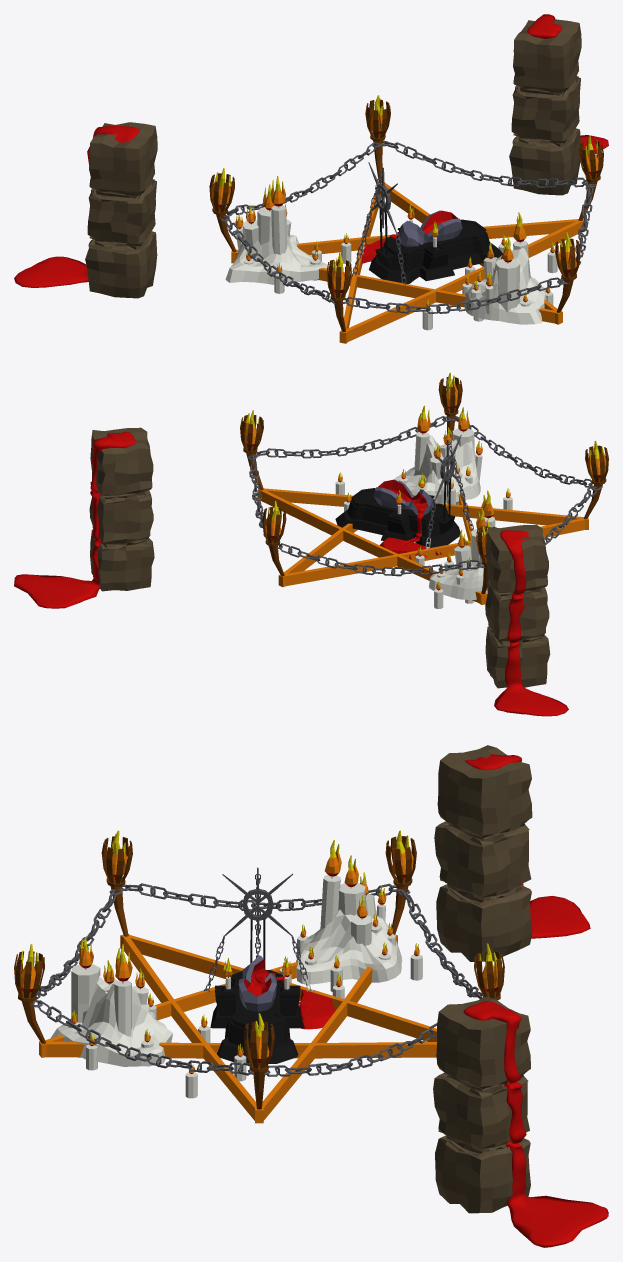
File: ritual_place_level_03.fbx
The picture shows the model from 3 angles, top to bottom: view 1: azimuth 30°, elevation 25°; view 2: azimuth 150°, elevation 25°; view 3: azimuth 270°, elevation 25°; orthographic projection. The views are drawn at different scales.
Visible parts, largest first — view 1: ritual_penta, pillars_blood; view 2: ritual_penta, pillars_blood; view 3: ritual_penta, pillars_blood.
Boxes of the visible parts, x1,y1,x2,y2 form: ritual_penta: (209, 95, 603, 343); pillars_blood: (14, 14, 608, 298); ritual_penta: (240, 372, 608, 608); pillars_blood: (14, 427, 568, 716); ritual_penta: (14, 830, 504, 1123); pillars_blood: (433, 745, 608, 1247).
Size of the model in its own units: 59.9 by 15.3 by 43.06.
